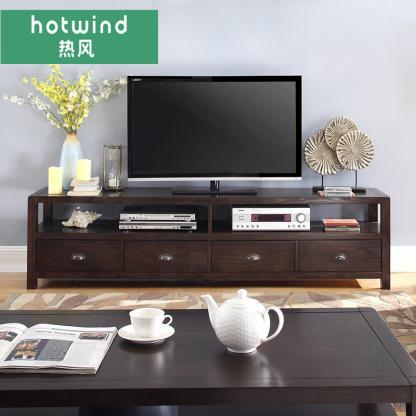TV stand: (25, 180, 391, 291)
